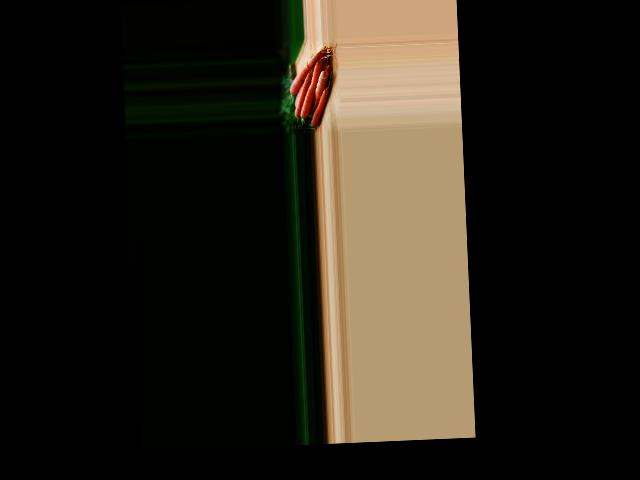carrot: (310, 82, 338, 128)
